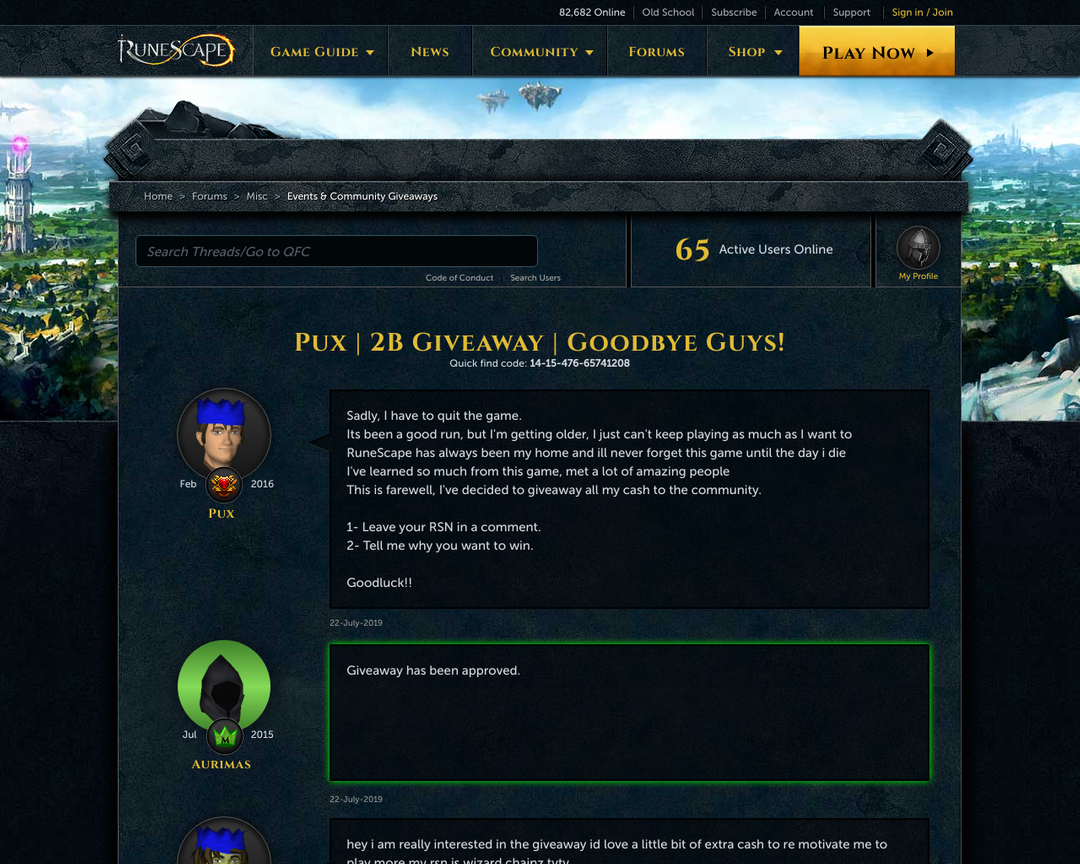Runescape: (111, 29, 243, 72)
